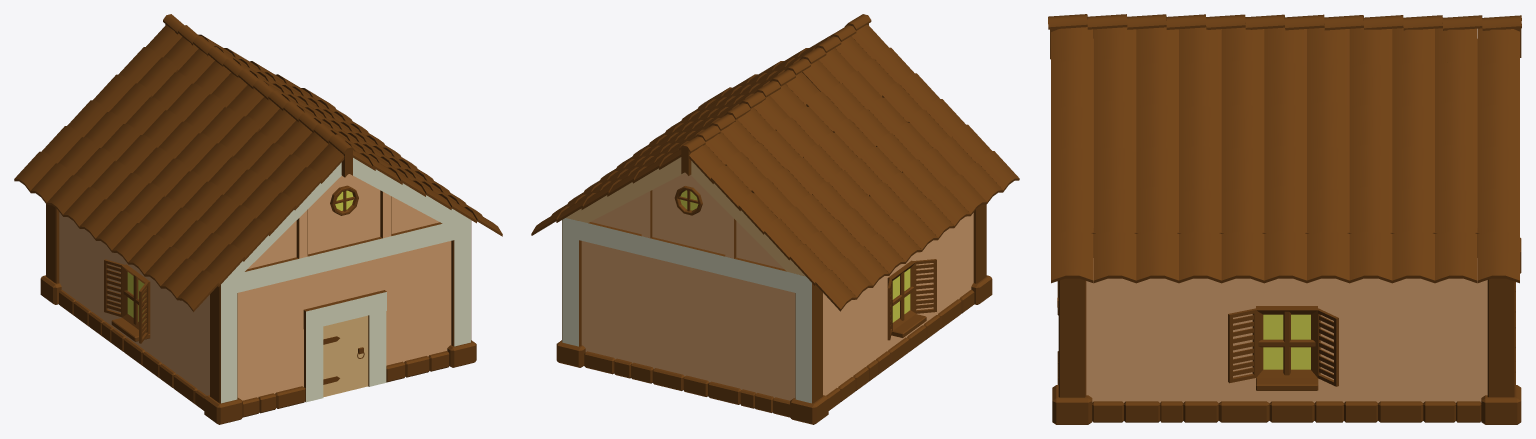
Rendered from Dom_LODGroup.fbx.
The picture shows the model from 3 angles, left to right: view 1: azimuth 30°, elevation 25°; view 2: azimuth 150°, elevation 25°; view 3: azimuth 270°, elevation 25°; orthographic projection. The views are drawn at different scales.
Visible parts, largest first — view 1: Dom_LOD0; view 2: Dom_LOD0; view 3: Dom_LOD0.
Boxes of the visible parts, <box> form: Dom_LOD0: <box>14,14,502,424</box>; Dom_LOD0: <box>531,14,1019,424</box>; Dom_LOD0: <box>1048,14,1521,424</box>.
Size of what is drawn, in the model's own units: 698 by 538 by 704.
